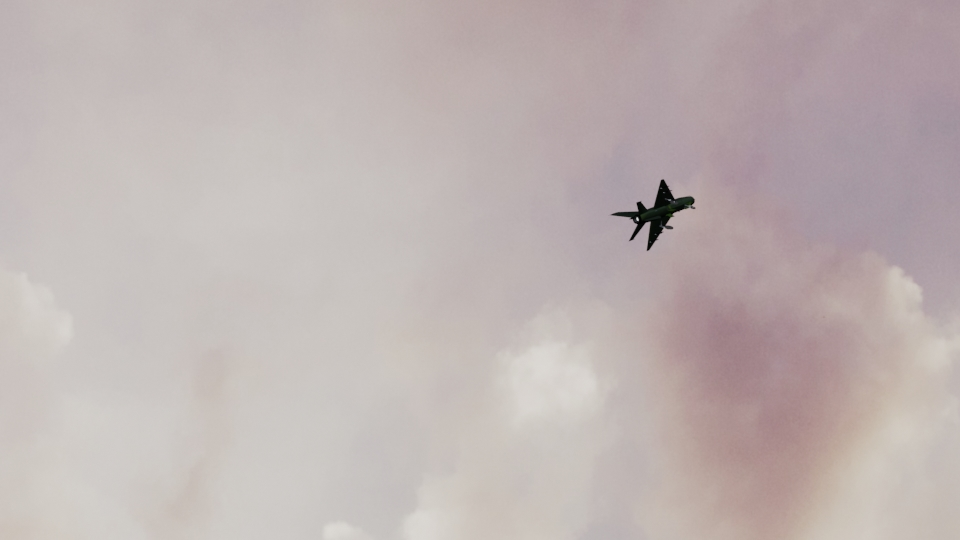plane: (610, 177, 696, 250)
